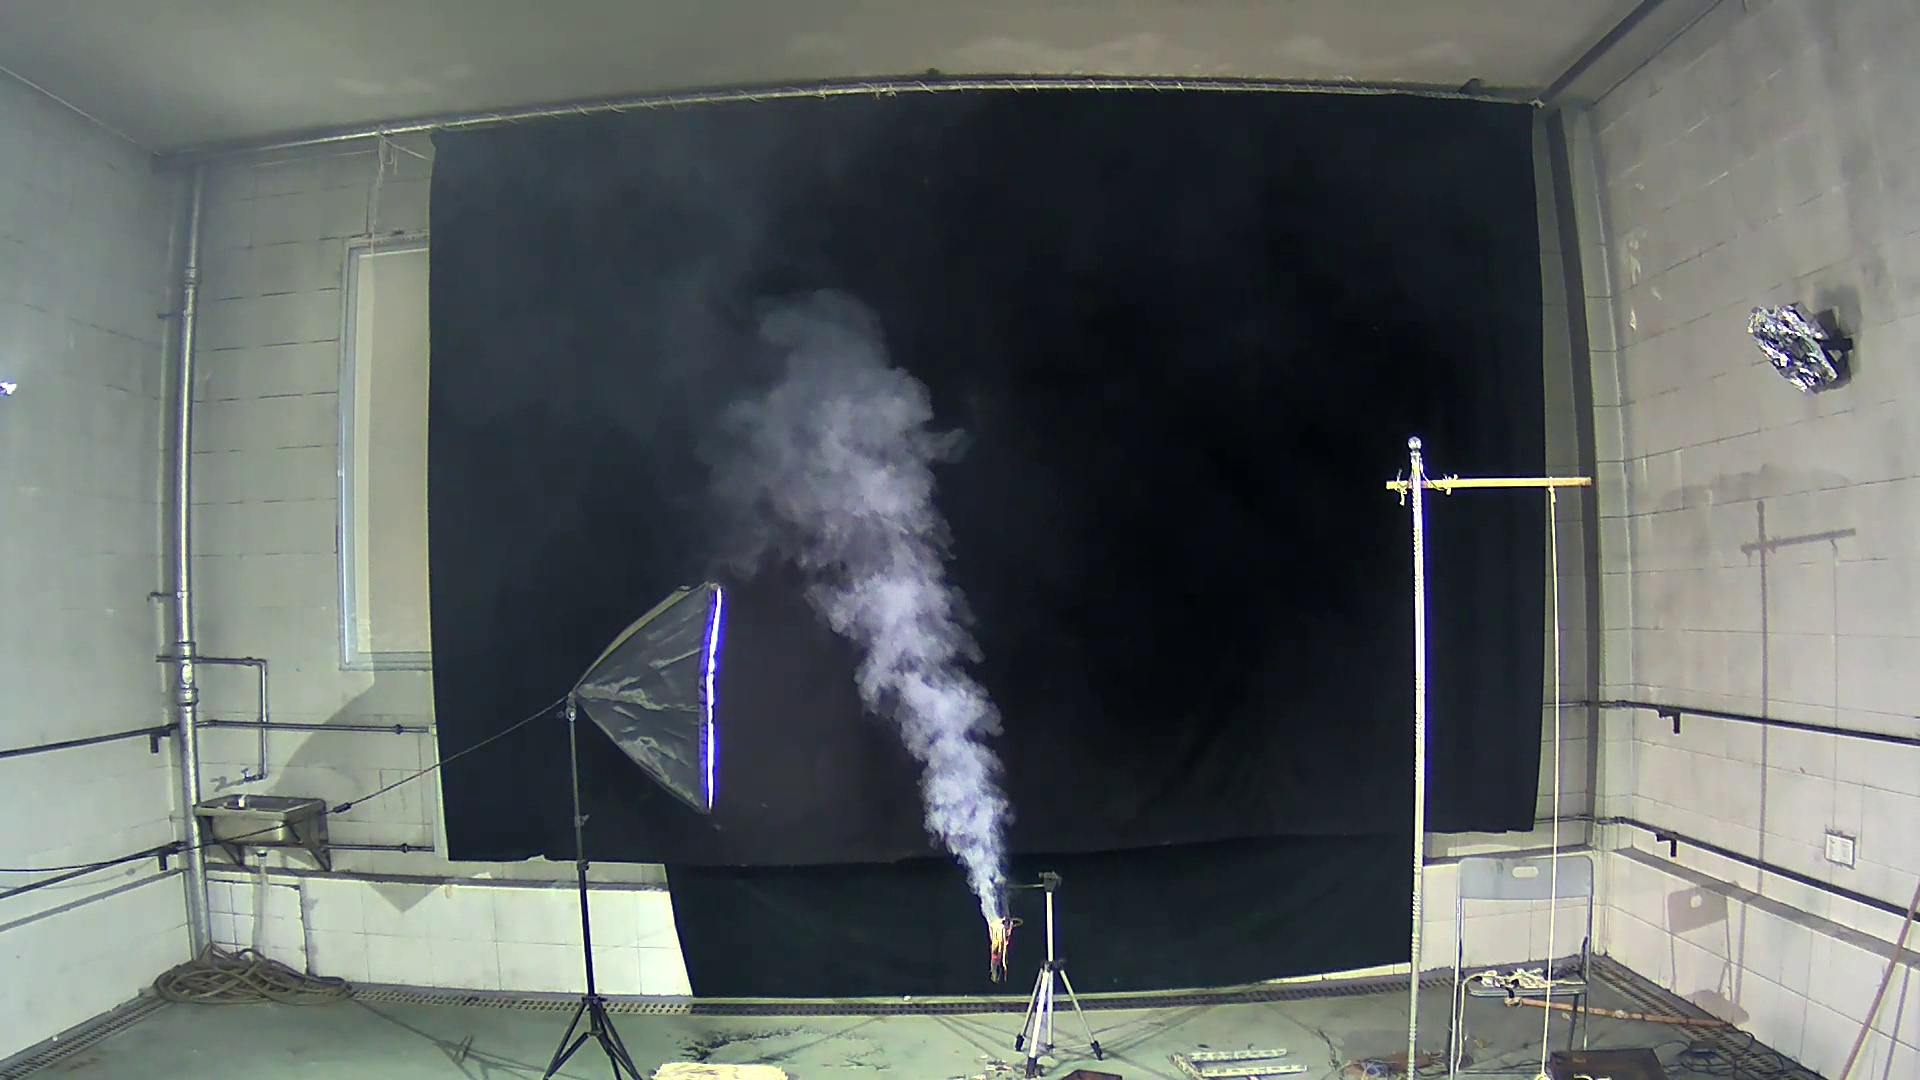smoke: (717, 270, 1036, 911)
